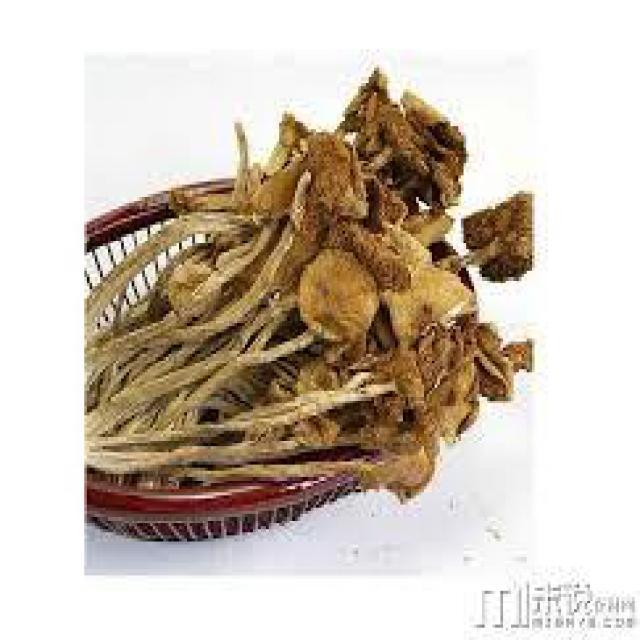Agrocybe aegerita: (81, 60, 532, 503)
